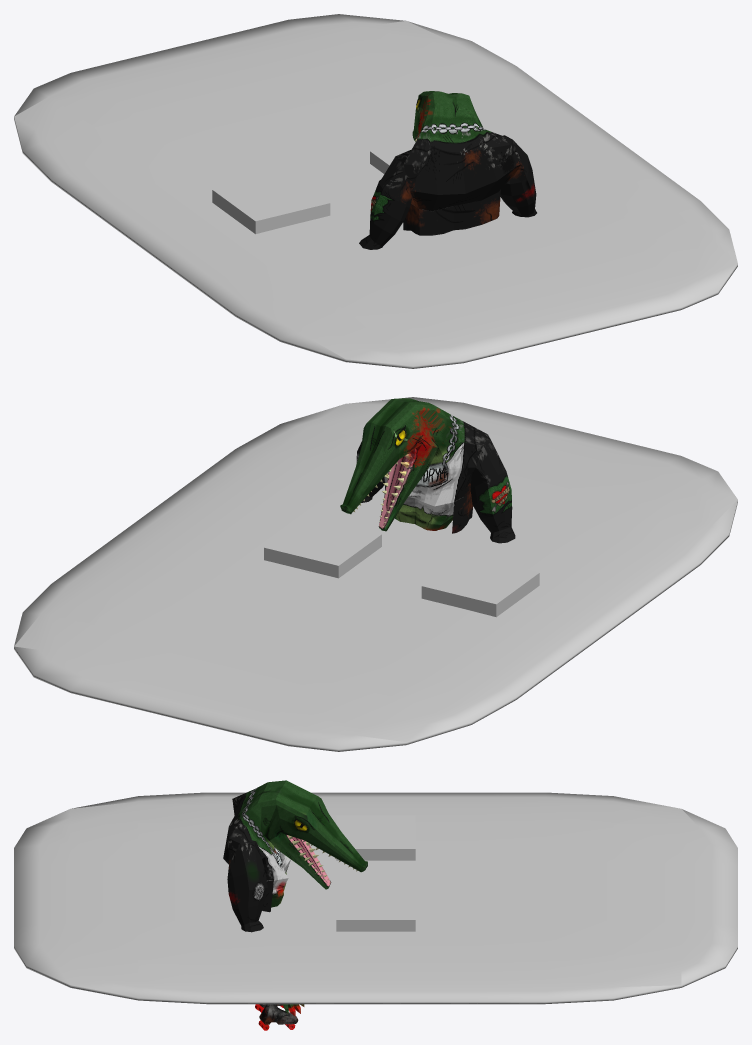
File: cocodrilaBonesSelect_000035.obj
3 renders of one model, top to bottom at view 1: azimuth 30°, elevation 25°; view 2: azimuth 150°, elevation 25°; view 3: azimuth 270°, elevation 25°, orthographic. The views are drawn at different scales.
Parts seen in each view (by area): view 1: Mball, Crocodile.002_Cylinder.002, Cube, Cube.001; view 2: Mball, Crocodile.002_Cylinder.002, Cube, Cube.001; view 3: Mball, Crocodile.002_Cylinder.002, Cube.001, Cube.
Boxes of the visible parts, x1,y1,x2,y2 form: Mball: [14, 14, 737, 368]; Crocodile.002_Cylinder.002: [359, 91, 536, 249]; Cube: [212, 171, 330, 234]; Cube.001: [370, 140, 415, 173]; Mball: [14, 397, 737, 751]; Crocodile.002_Cylinder.002: [340, 398, 515, 543]; Cube: [421, 554, 539, 617]; Cube.001: [264, 516, 381, 578]; Mball: [14, 792, 737, 1004]; Crocodile.002_Cylinder.002: [223, 780, 367, 1030]; Cube.001: [336, 886, 415, 931]; Cube: [336, 815, 415, 860].
Size of the model in its own units: 12.42 by 6.59 by 18.18.
